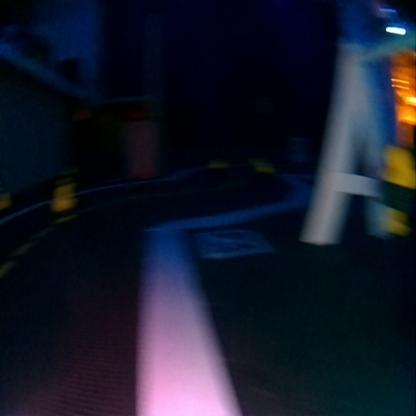Duckie: (53, 188, 72, 211), (0, 193, 9, 210)
QR code: (195, 228, 273, 256)
